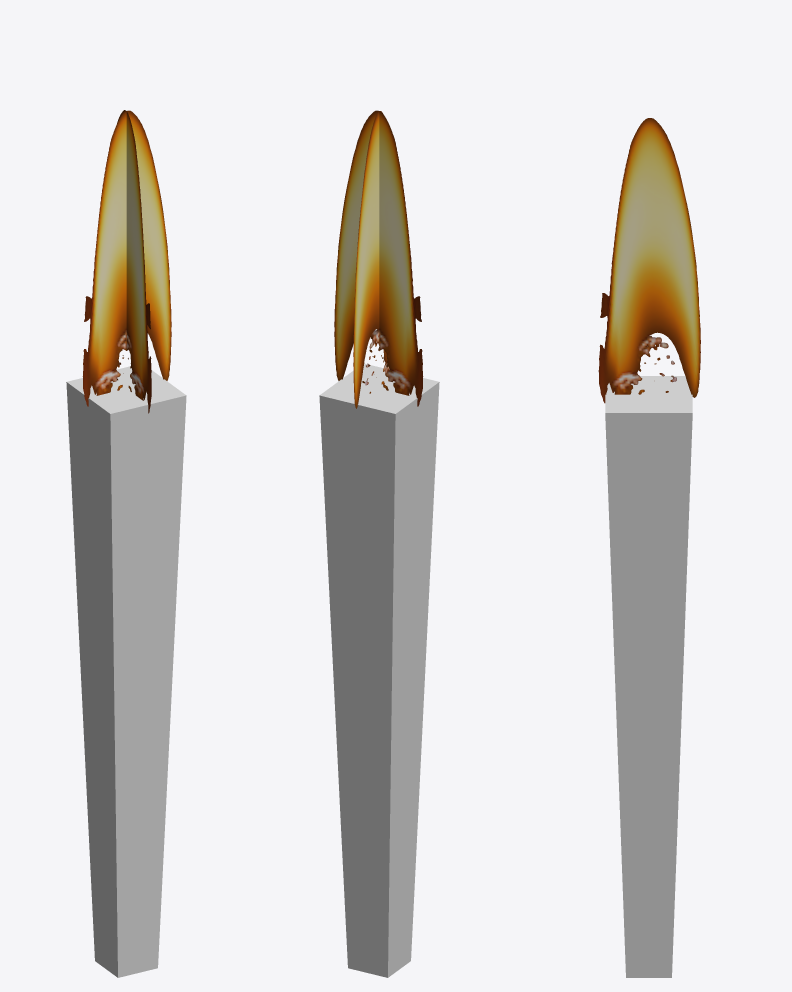
File: Cultist_Torch.fbx
3 renders of one model, left to right at view 1: azimuth 30°, elevation 25°; view 2: azimuth 150°, elevation 25°; view 3: azimuth 270°, elevation 25°, orthographic.
Visible parts, largest first — view 1: Cube.182; view 2: Cube.182; view 3: Cube.182.
Part boxes in pixels (x1,y1,x2,y2): Cube.182: (66,110,186,977); Cube.182: (319,110,439,977); Cube.182: (598,118,700,977).
Size of the model in its own units: 19.9 by 76.64 by 19.9.
